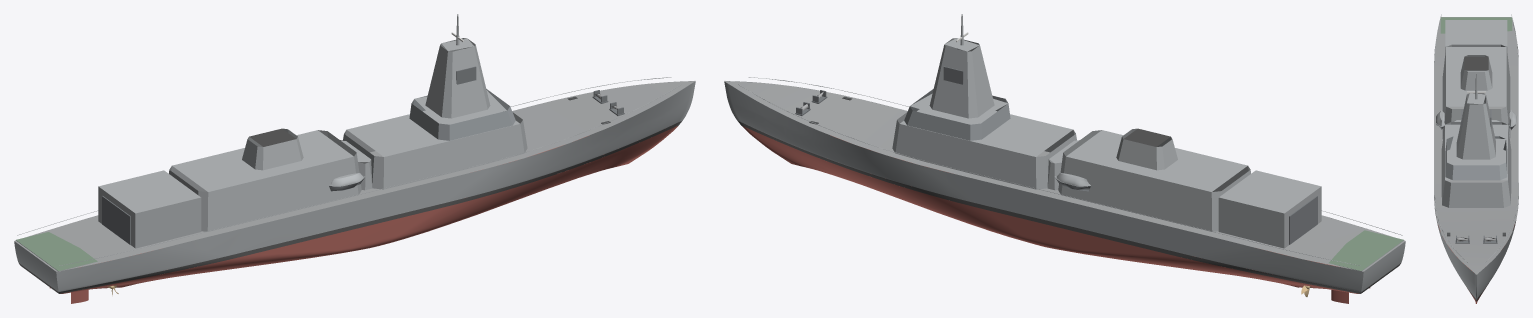
File: frigate.glb
3 renders of one model, left to right at view 1: azimuth 30°, elevation 25°; view 2: azimuth 150°, elevation 25°; view 3: azimuth 270°, elevation 25°, orthographic. The views are drawn at different scales.
Bounding box in the file's own units: 136 × 37.48 × 18.03.
